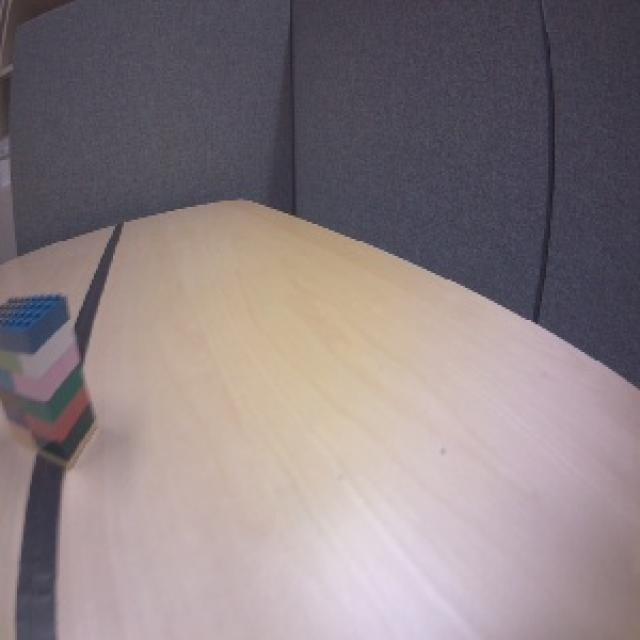obstacle: (2, 292, 102, 474)
